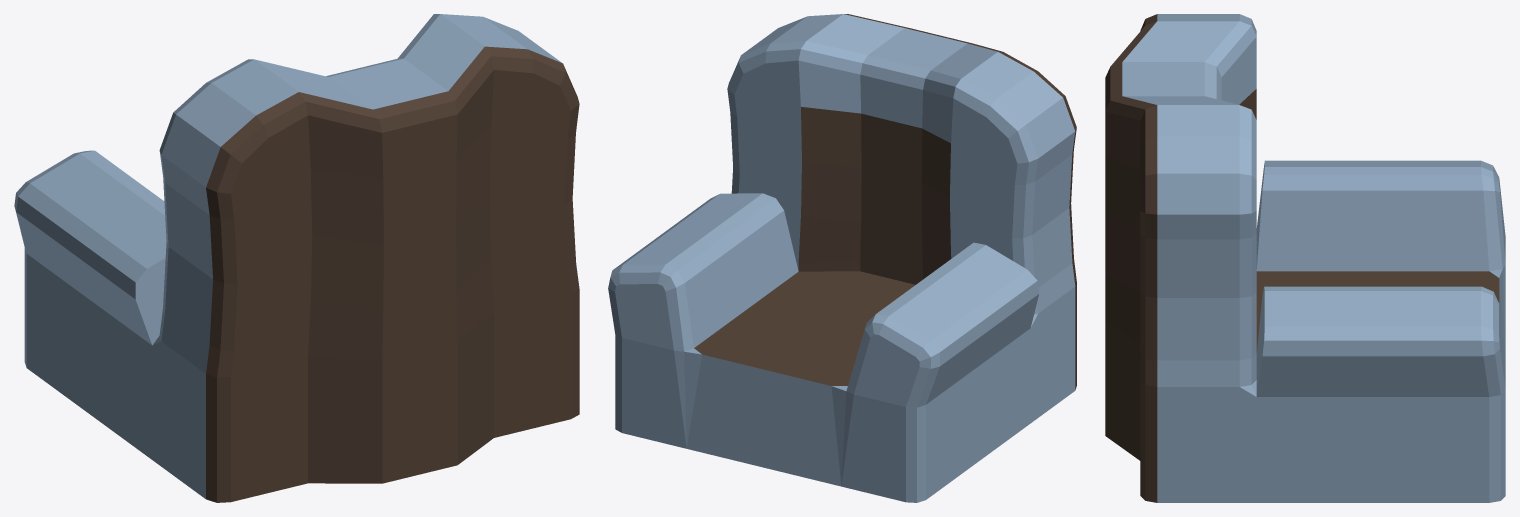
Rendered from Sofa_Lv2_1.fbx.
3 renders of one model, left to right at view 1: azimuth 30°, elevation 25°; view 2: azimuth 150°, elevation 25°; view 3: azimuth 270°, elevation 25°, orthographic. The views are drawn at different scales.
Visible parts, largest first — view 1: Sofa_Lv3; view 2: Sofa_Lv3; view 3: Sofa_Lv3.
Boxes of the visible parts, box(x1,y1,x2,y2) form: Sofa_Lv3: box(14, 14, 579, 502); Sofa_Lv3: box(608, 14, 1076, 502); Sofa_Lv3: box(1105, 14, 1505, 502).
Size of the model in its own units: 3.64 by 3.37 by 3.43.
